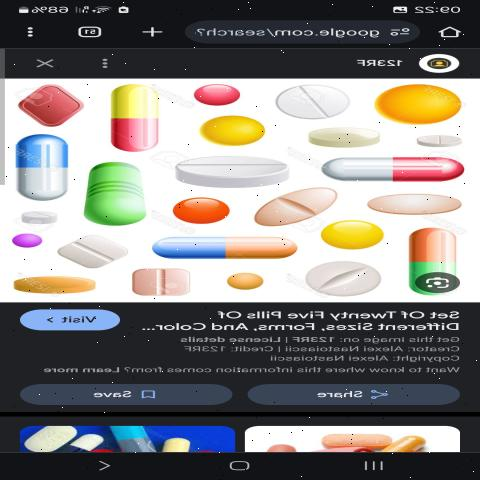Pill: (156, 148, 300, 192), (4, 128, 78, 206), (270, 258, 398, 300), (307, 152, 469, 184), (245, 183, 345, 230), (261, 81, 367, 125), (44, 230, 140, 272), (108, 268, 200, 304), (354, 190, 464, 220), (312, 214, 402, 248), (190, 113, 276, 143), (295, 123, 389, 148), (398, 128, 471, 152), (4, 207, 58, 227)
